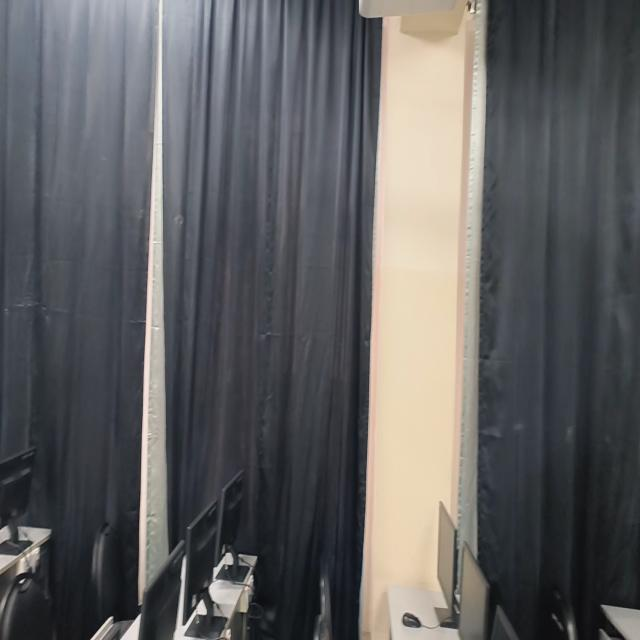Chair: (0, 570, 53, 639), (91, 521, 119, 620), (545, 585, 578, 639), (313, 565, 332, 639)
Monitor: (139, 540, 185, 639), (183, 501, 217, 620), (458, 542, 495, 639), (0, 447, 35, 541), (216, 471, 243, 562), (437, 501, 456, 617)
Mouse: (402, 612, 421, 628)
Projector: (359, 0, 456, 18)
